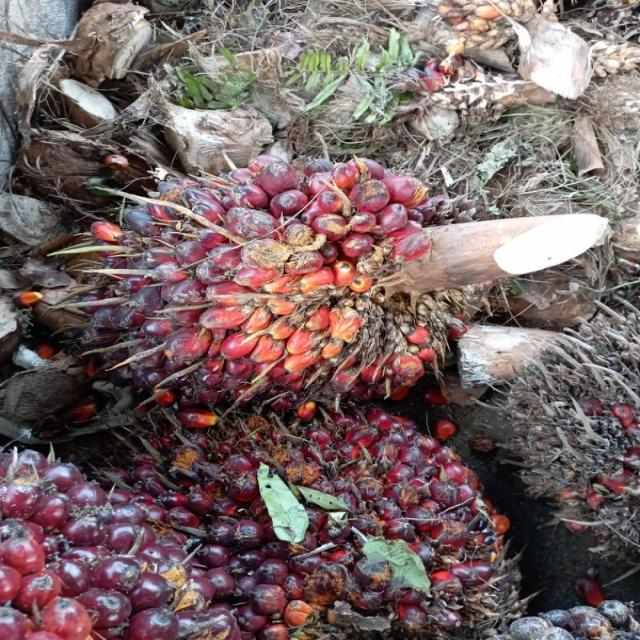fraksi 1: (120, 380, 501, 640)
fraksi 3: (45, 158, 472, 411)
